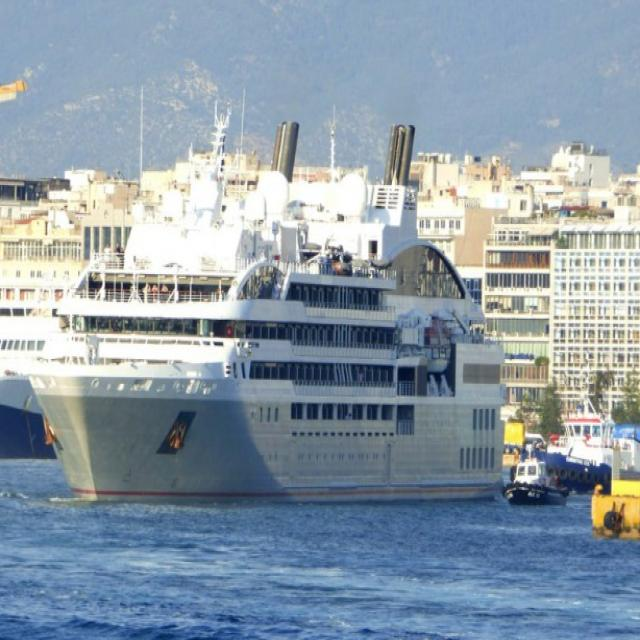cruises: (21, 111, 519, 510)
